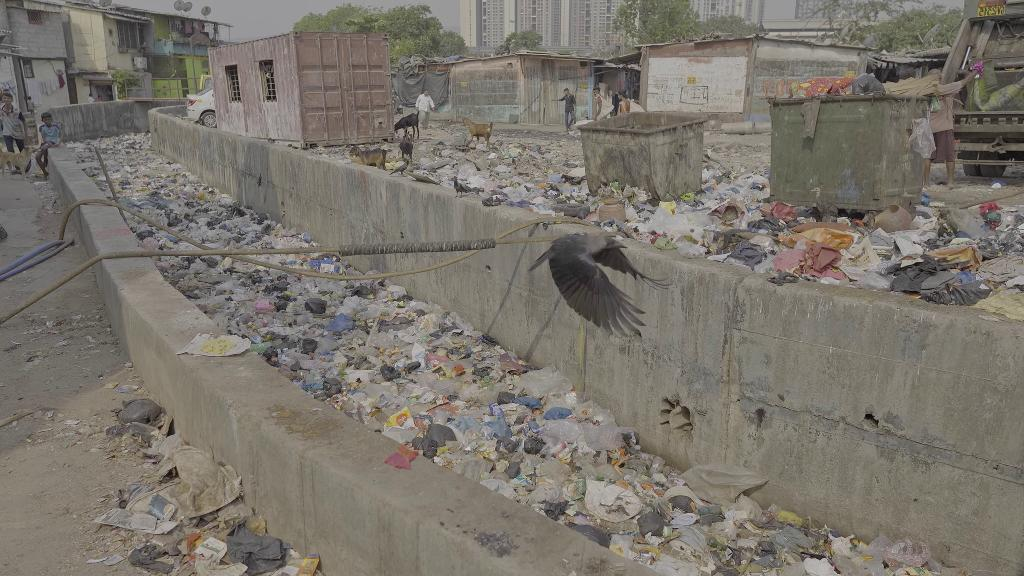dustbin: (762, 92, 933, 212), (580, 105, 712, 202)
garbage: (91, 444, 241, 528), (669, 462, 768, 508), (576, 471, 649, 530), (103, 387, 171, 449), (885, 254, 964, 297), (506, 366, 574, 405), (405, 421, 460, 461), (885, 538, 933, 567), (145, 495, 173, 524), (445, 337, 476, 363), (301, 295, 333, 317), (379, 359, 404, 385), (320, 374, 345, 400), (520, 433, 545, 455), (542, 403, 572, 421), (549, 439, 572, 459), (484, 401, 507, 418)
